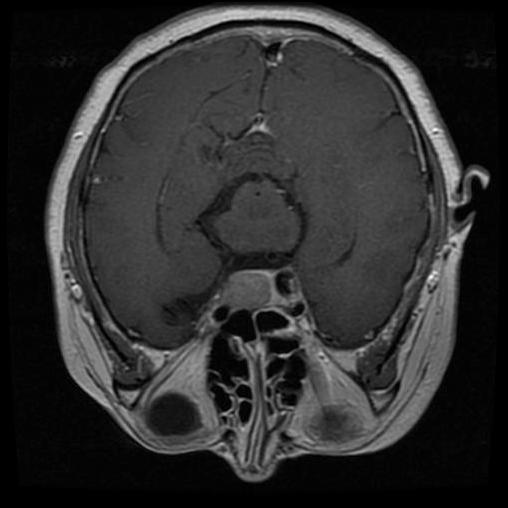Tumour-Pituitary: (220, 261, 308, 322)
